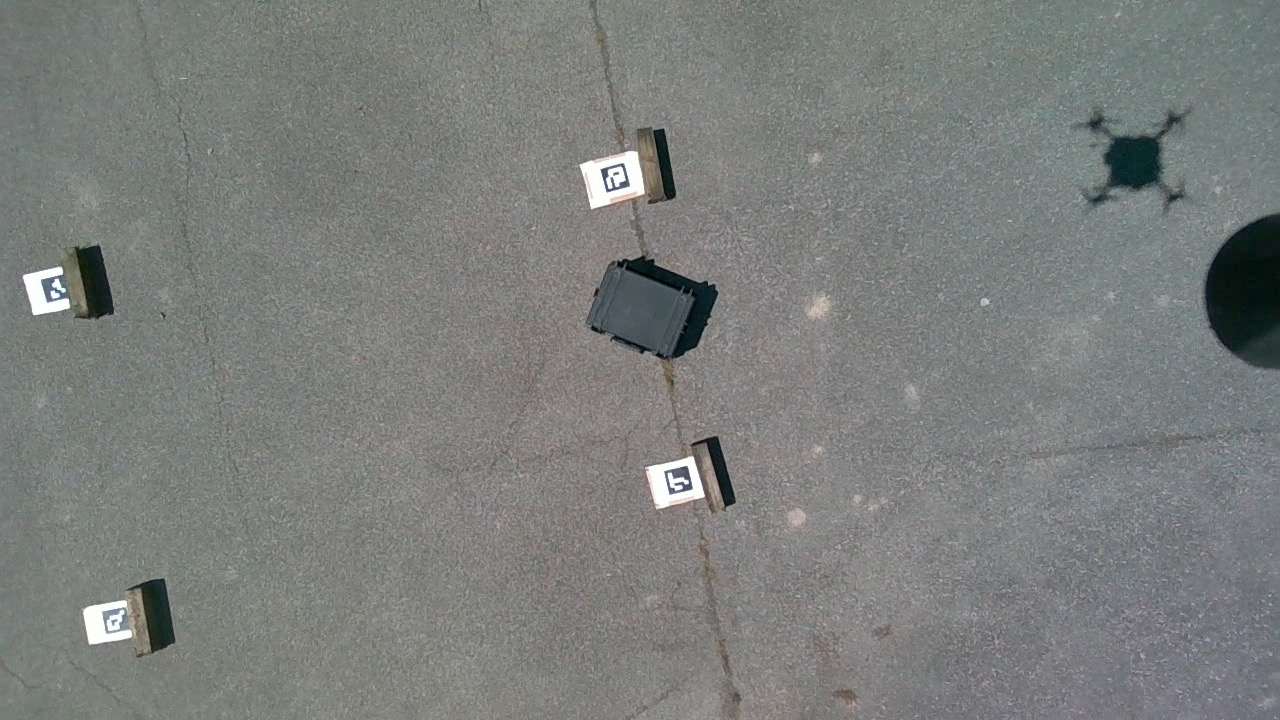rako: (587, 258, 713, 358)
